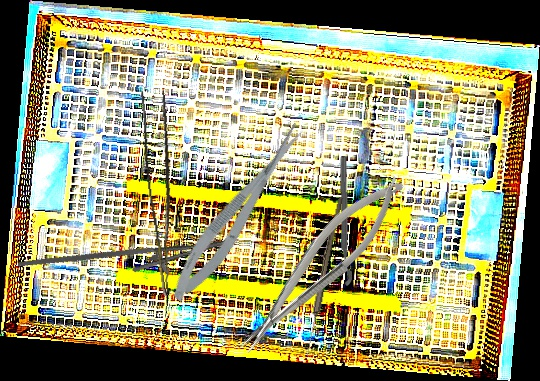Fixation Ring: (329, 155, 353, 287)
Micro Scissor: (160, 117, 318, 309)
Needle Holder: (222, 166, 419, 362), (17, 214, 230, 308)
Surgical Spoon: (304, 196, 343, 356)
Tissue Forceps: (134, 87, 193, 297)
